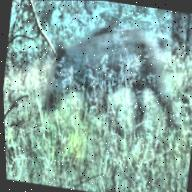boar: (35, 24, 192, 148)
